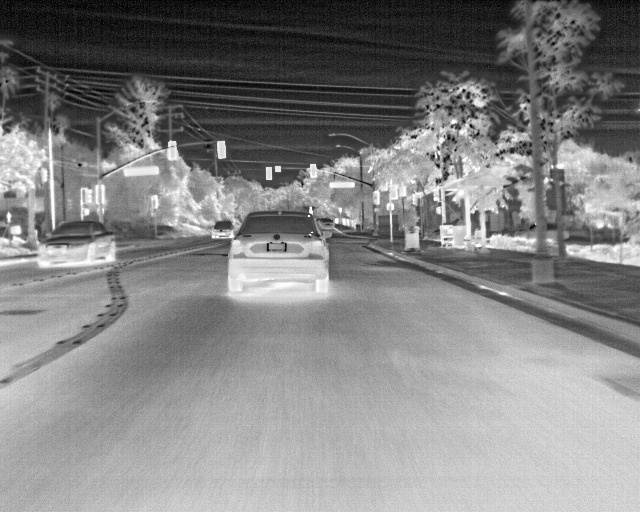vehicle: (227, 211, 329, 296), (38, 220, 119, 270), (212, 218, 233, 240)
